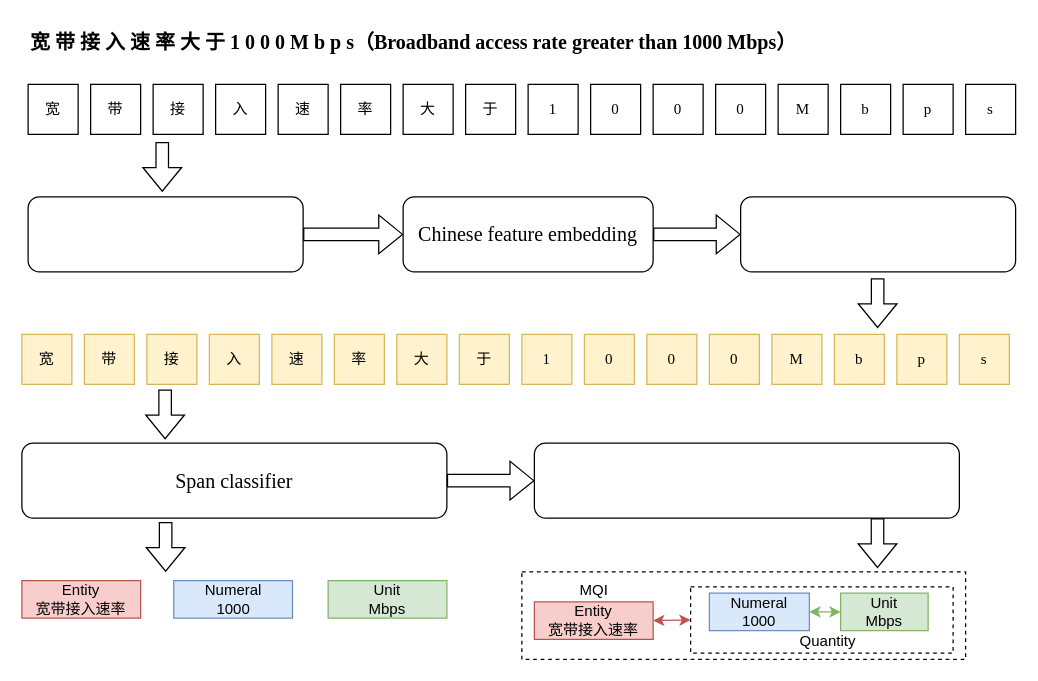
Some shapes in this 1038 by 681 pixel diagram are drawn without their labels. The shapes that lost their labels are listed below. From the top down, each one's centre as x and y in pixels, then its label:
At pixel 165 234: "Pre-processing".
At pixel 877 234: "Transformers".
At pixel 746 480: "Association".
